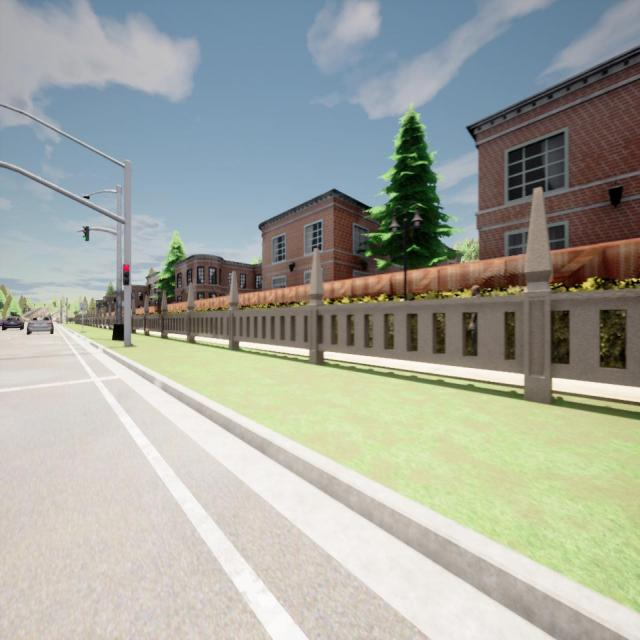Traffic_Signs: (80, 302, 86, 311)
Vehicle: (26, 314, 54, 335), (2, 316, 24, 330)
traffic_light: (123, 264, 129, 286), (82, 226, 89, 241)
